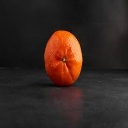orange: (42, 29, 84, 88)
